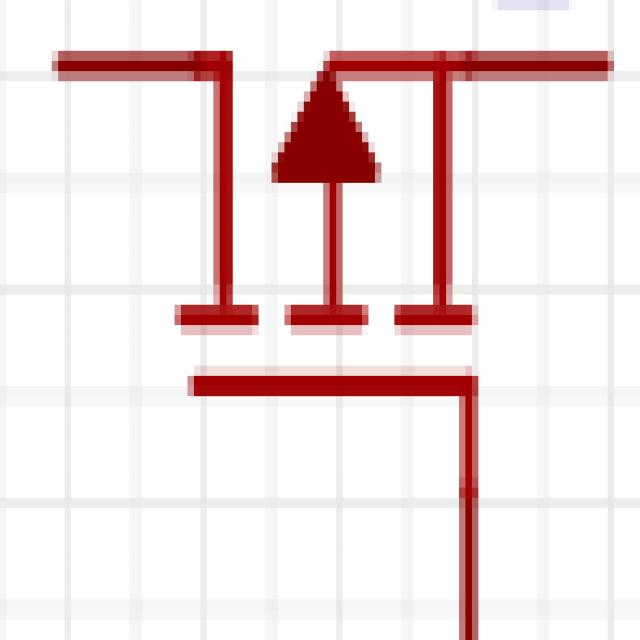pmos: (40, 16, 619, 634)
